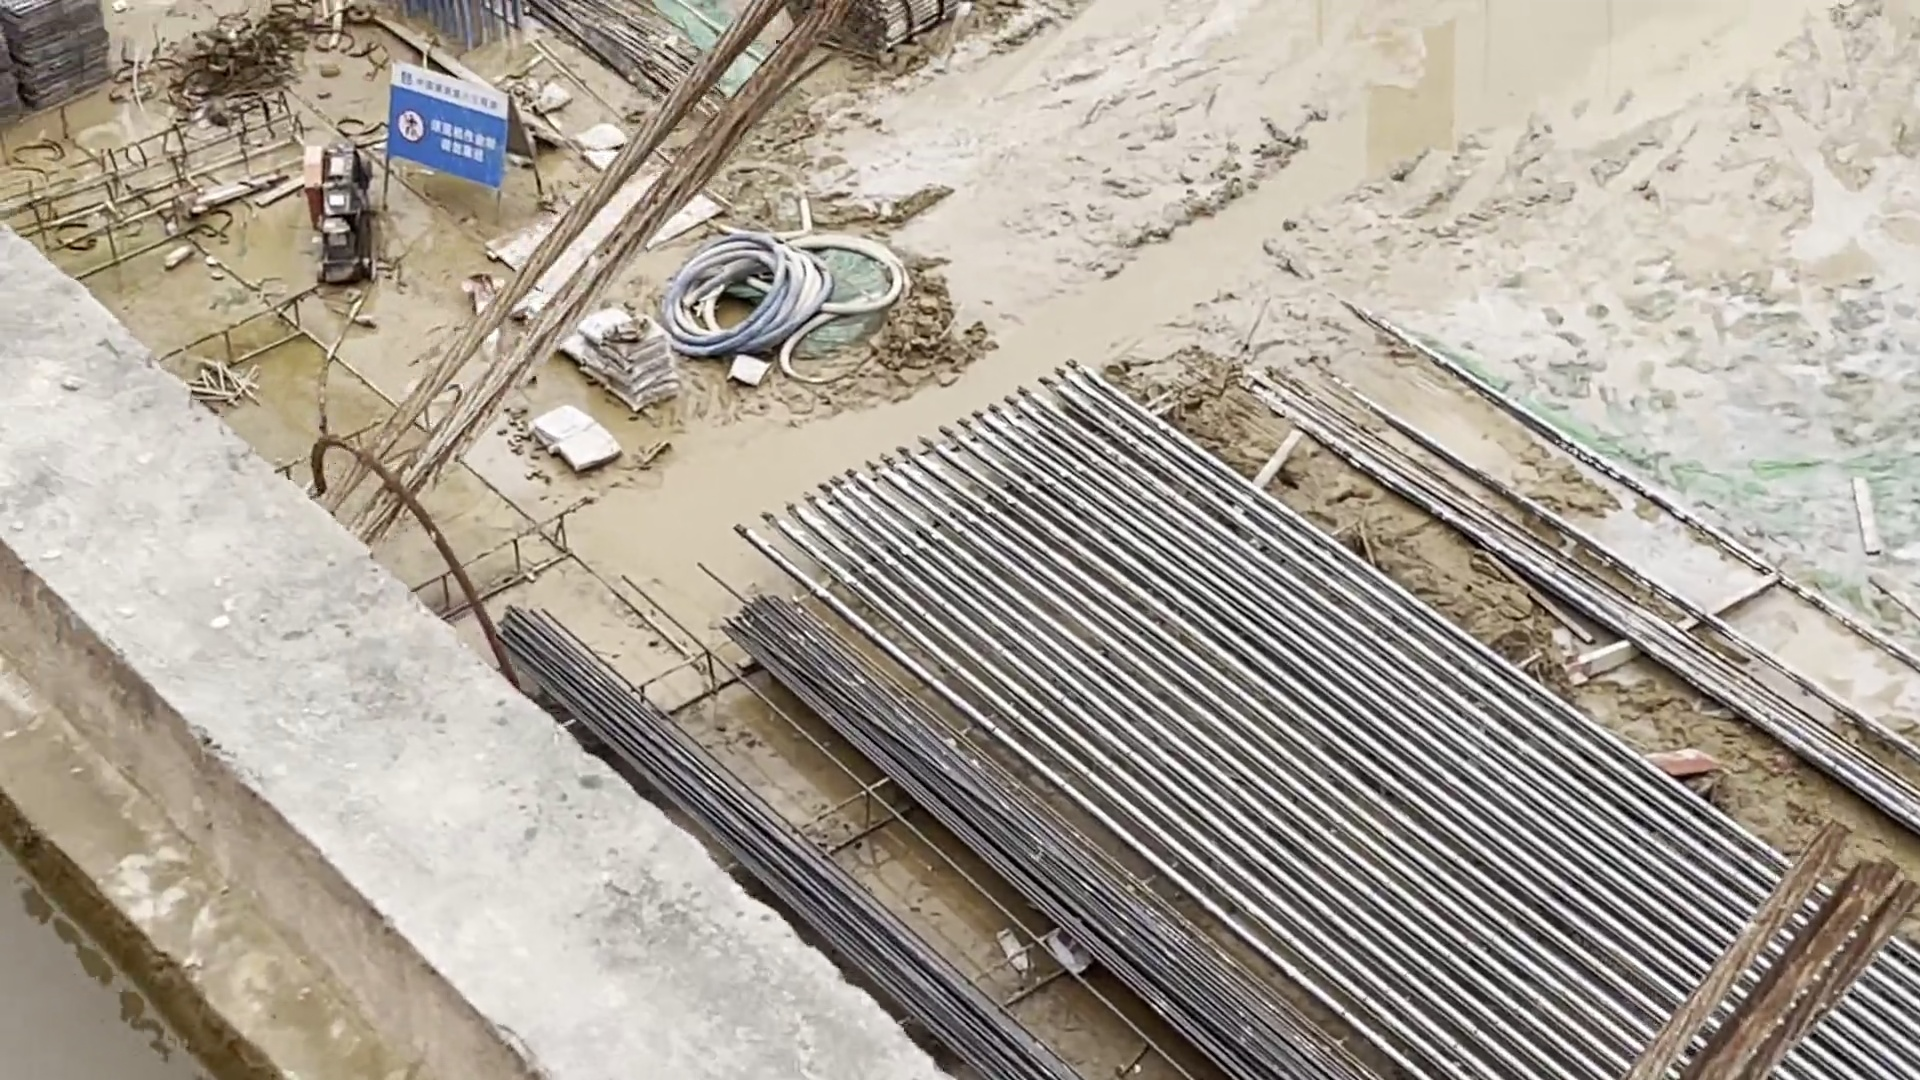rebar: (491, 591, 1311, 1080)
slogan: (386, 69, 505, 177)
